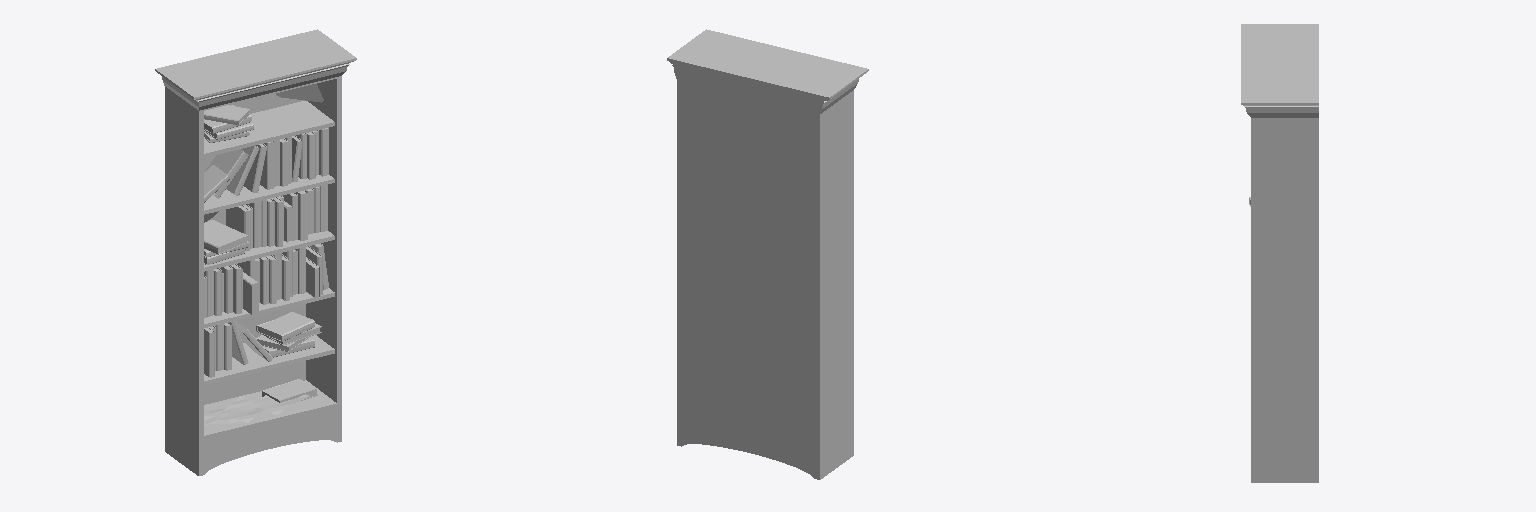
File: books.obj
3 views of the same model, side by side, from view 1: azimuth 30°, elevation 25°; view 2: azimuth 150°, elevation 25°; view 3: azimuth 270°, elevation 25° (orthographic).
Parts seen in each view (by area): view 1: Old_Dusty_Bookshelf, Old_Dusty_Bookshelf_Books; view 2: Old_Dusty_Bookshelf; view 3: Old_Dusty_Bookshelf.
Part boxes in pixels (bbox=[...]): Old_Dusty_Bookshelf: bbox=[155, 29, 356, 475]; Old_Dusty_Bookshelf_Books: bbox=[204, 105, 328, 424]; Old_Dusty_Bookshelf: bbox=[667, 29, 868, 479]; Old_Dusty_Bookshelf: bbox=[1241, 24, 1318, 482].
Bounding box in the file's own units: 1.37 × 3.09 × 0.5725.